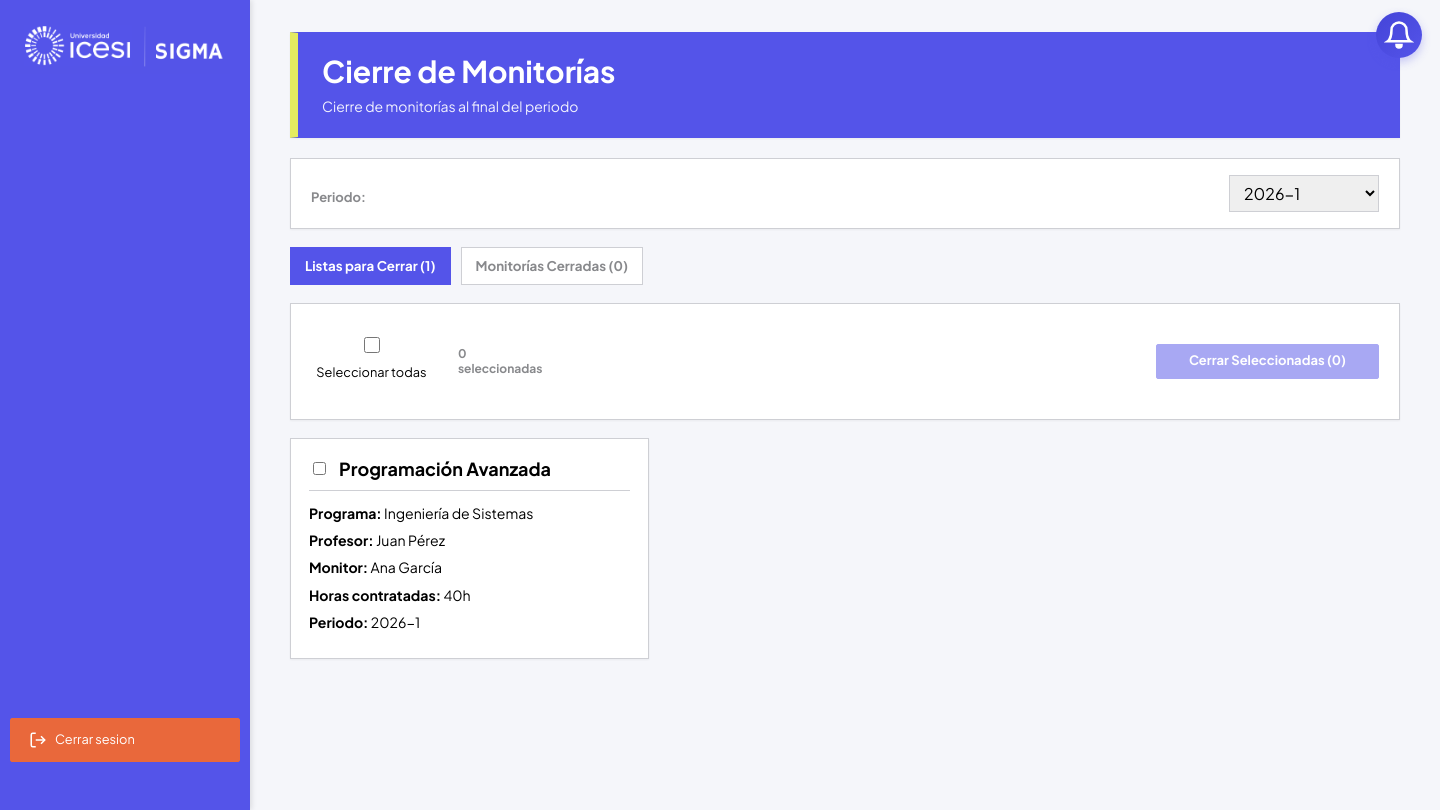
it: CerrarMonitoriasHU007 › Debe abrir modal de cierre al hacer clic en "Cerrar Seleccionadas"
This screenshot has width=1440, height=810.
Check: the heading "Programación Avanzada" is shown, box [339,457,551,480]
Note: Seleccionar monitoría
Step 1. Click the 2nd checkbox → (320, 468), box [313,462,326,475]
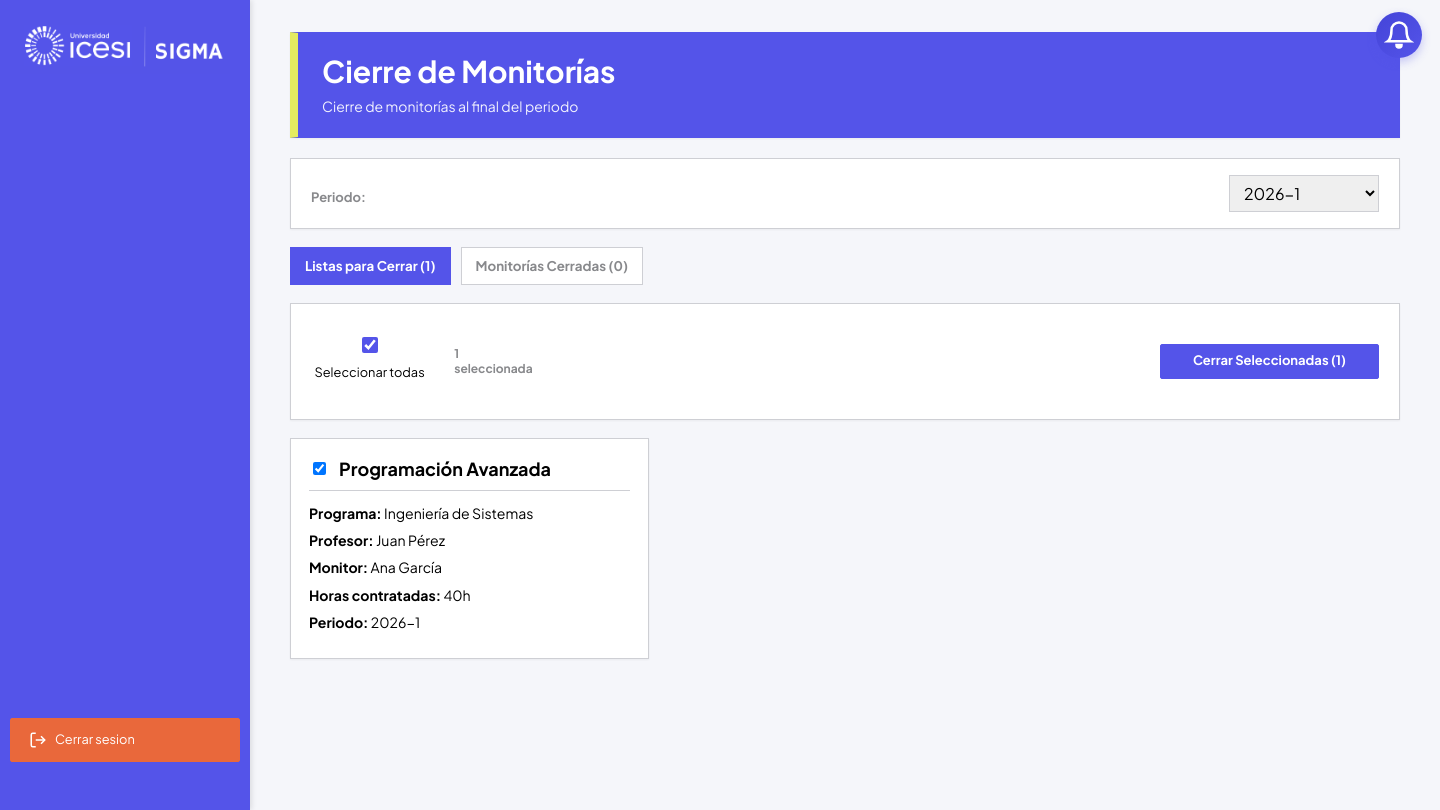
Note: Abrir modal
Step 2. Click the button "Cerrar Seleccionadas (1)" → (1269, 361), box [1160,344,1379,379]
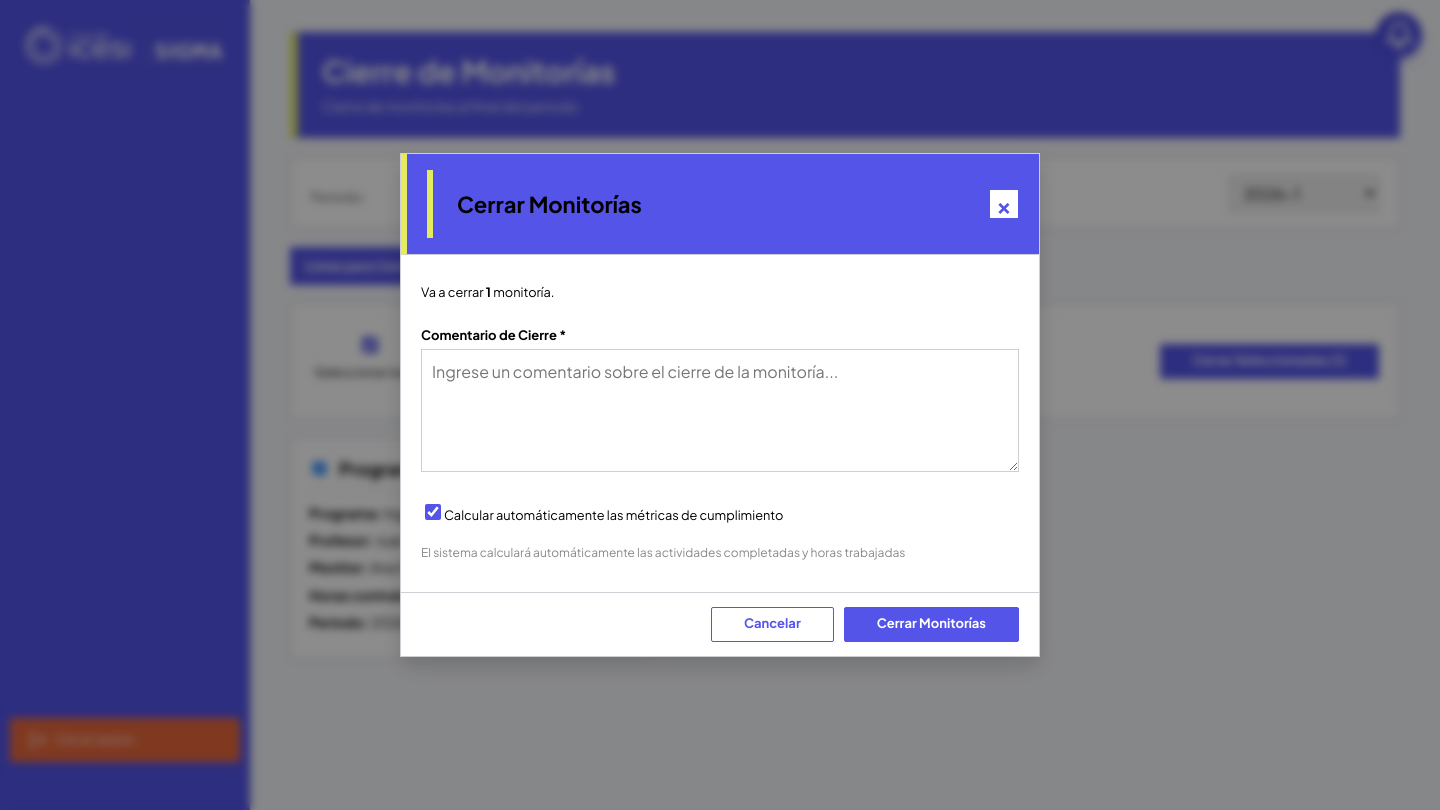
Check: the text "Va a cerrar 1 monitoría." is shown, box [421,284,554,300]
Check: the text box with placeholder "Ingrese un comentario sobre el cierre de la monitoría..." is shown, box [421,349,1019,472]
